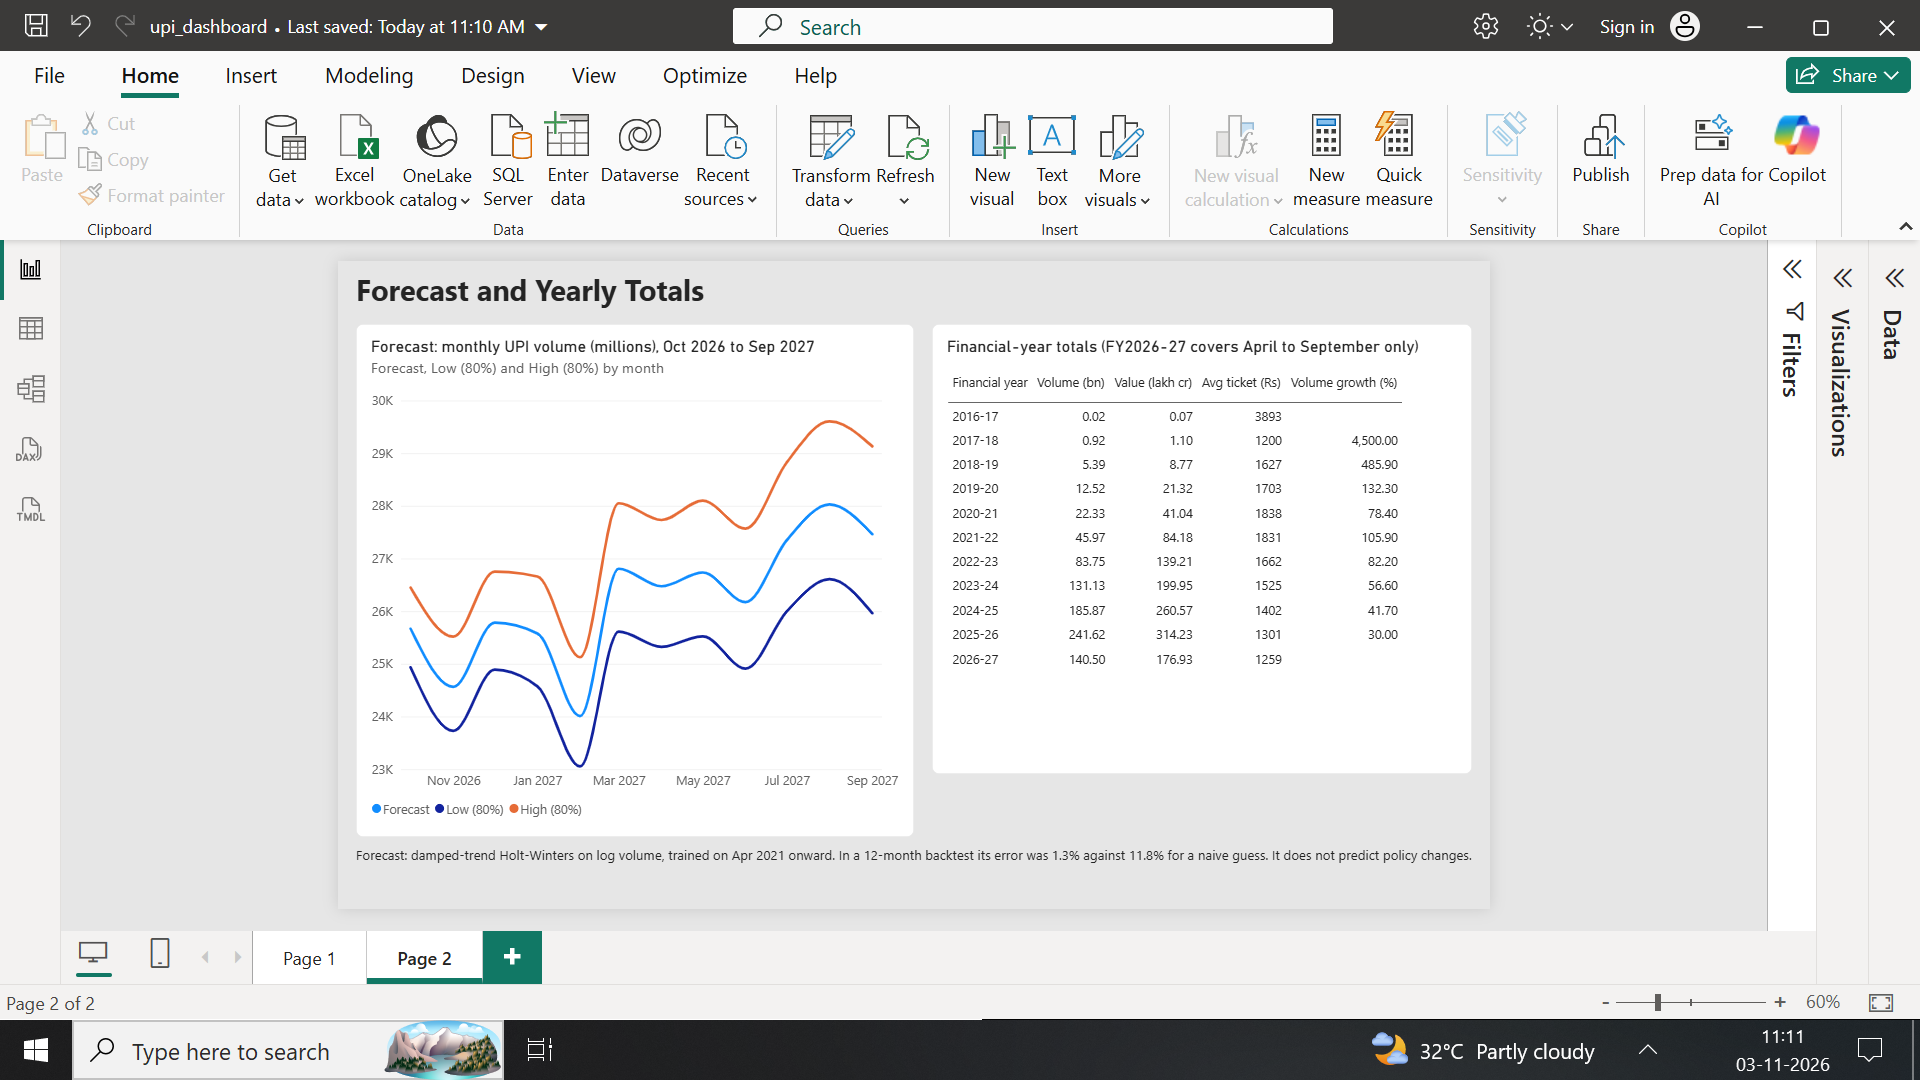

This screenshot's page, from the dashboard's own definition file:
{"tool":"powerbi","page":{"name":"Page 2","canvas":[1280,720],"ordinal":1},"visuals":[{"type":"lineChart","title":"Forecast: monthly UPI volume (millions), Oct 2026 to Sep 2027","fields":{"Category":["forecast.month"],"Y":["Sum(forecast.forecast_volume_mn)","Sum(forecast.low_80)","Sum(forecast.high_80)"]},"box":[20,70,620,570],"z":0},{"type":"tableEx","title":"Financial-year totals (FY2026-27 is Apr to Sep only, so ignore its growth %)","fields":{"Values":["03_yearly.fin_year","Sum(03_yearly.volume_bn)","Sum(03_yearly.value_lakh_cr)","Sum(03_yearly.avg_ticket_rs)","Sum(03_yearly.volume_growth_pct)"]},"box":[660,70,600,500],"z":1},{"type":"textbox","box":[20,10,1240,50],"z":2},{"type":"textbox","box":[20,650,1240,50],"z":3}]}

Visuals, with their boxes on the page's 1280x720 design canvas (x1, y1, x2, y2). These are canvas units, not pixel positions in the 1920x1080 screenshot, which may show the page scaled, cropped or inside an application window:
"Forecast: monthly UPI volume (millions), Oct 2026 to Sep 2027" lineChart: 20 70 640 640
"Financial-year totals (FY2026-27 is Apr to Sep only, so ignore its growth %)" tableEx: 660 70 1260 570
textbox: 20 10 1260 60
textbox: 20 650 1260 700
